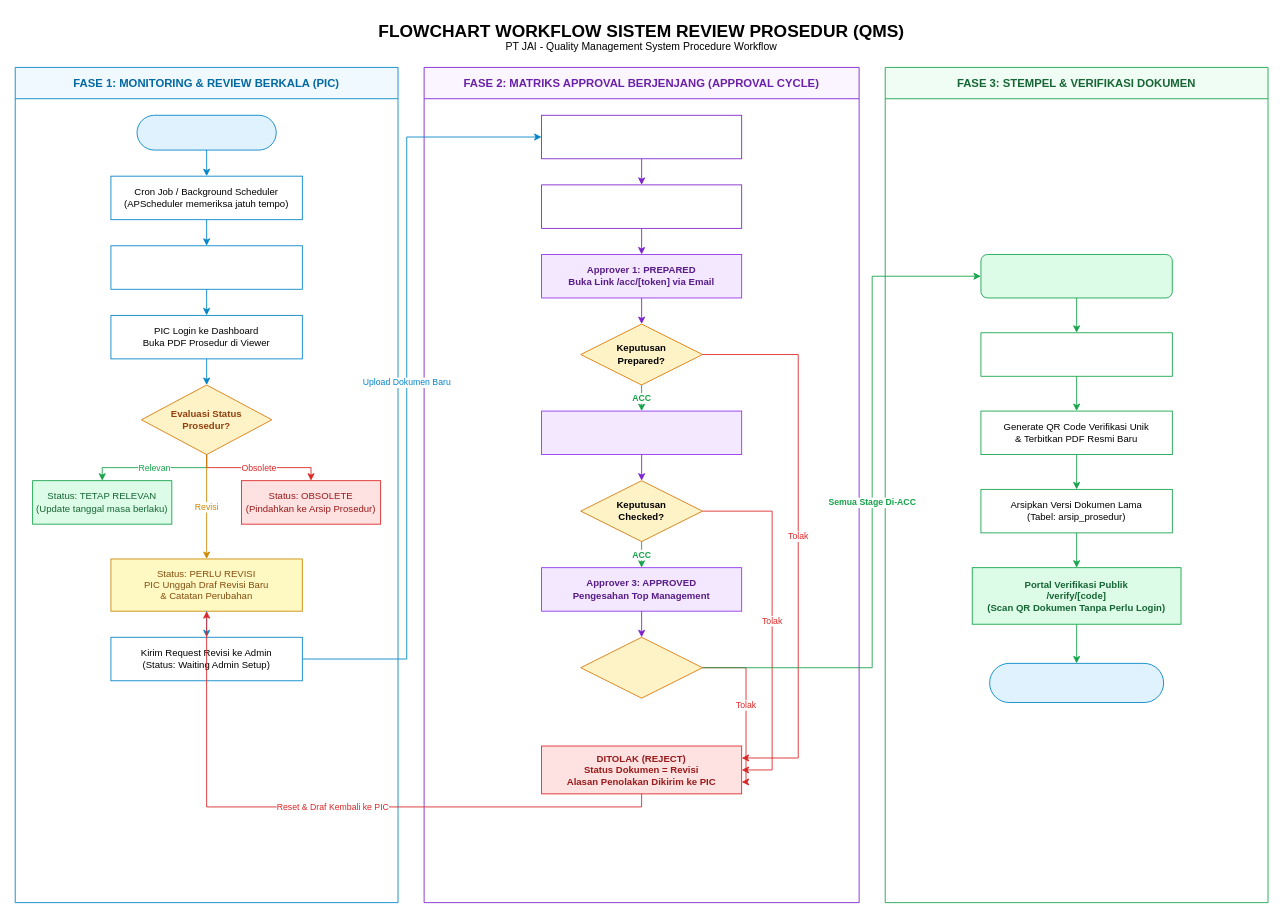
The diagram is 1283 pixels wide and 918 high, and some of its shapes have lost their labels. Here are the shapes that lost their labels. From the top down, the box of each, then its label:
(136, 114, 276, 150): Mulai Siklus Tahunan
(541, 114, 742, 159): Admin Menetapkan Approver & Upload Dokumen Draf Final
(541, 184, 742, 228): Admin Inisiasi Siklus Approval (Sistem Buat Token Unik Tiap Role)
(110, 245, 302, 289): Kirim Notifikasi Email ke PIC (SMTP Email Service)
(980, 254, 1172, 298): Semua Stage Telah Di-ACC (Status: Completed)
(980, 332, 1172, 376): Admin Melakukan Date Stamping Tetapkan Tanggal Selesai Approval
(541, 410, 742, 455): Approver 2: CHECKED Notifikasi Email Token Aktif
(580, 636, 703, 698): Keputusan Approved?
(989, 663, 1164, 703): Selesai & Jadwalkan Siklus Review Tahun Depan
